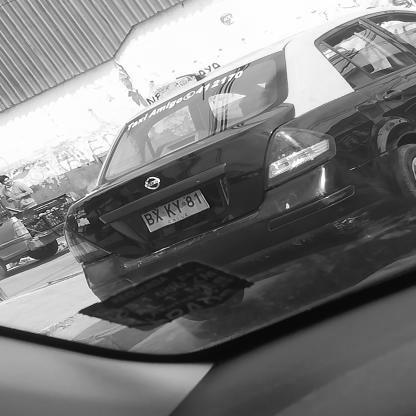Patente: (138, 187, 214, 235)
